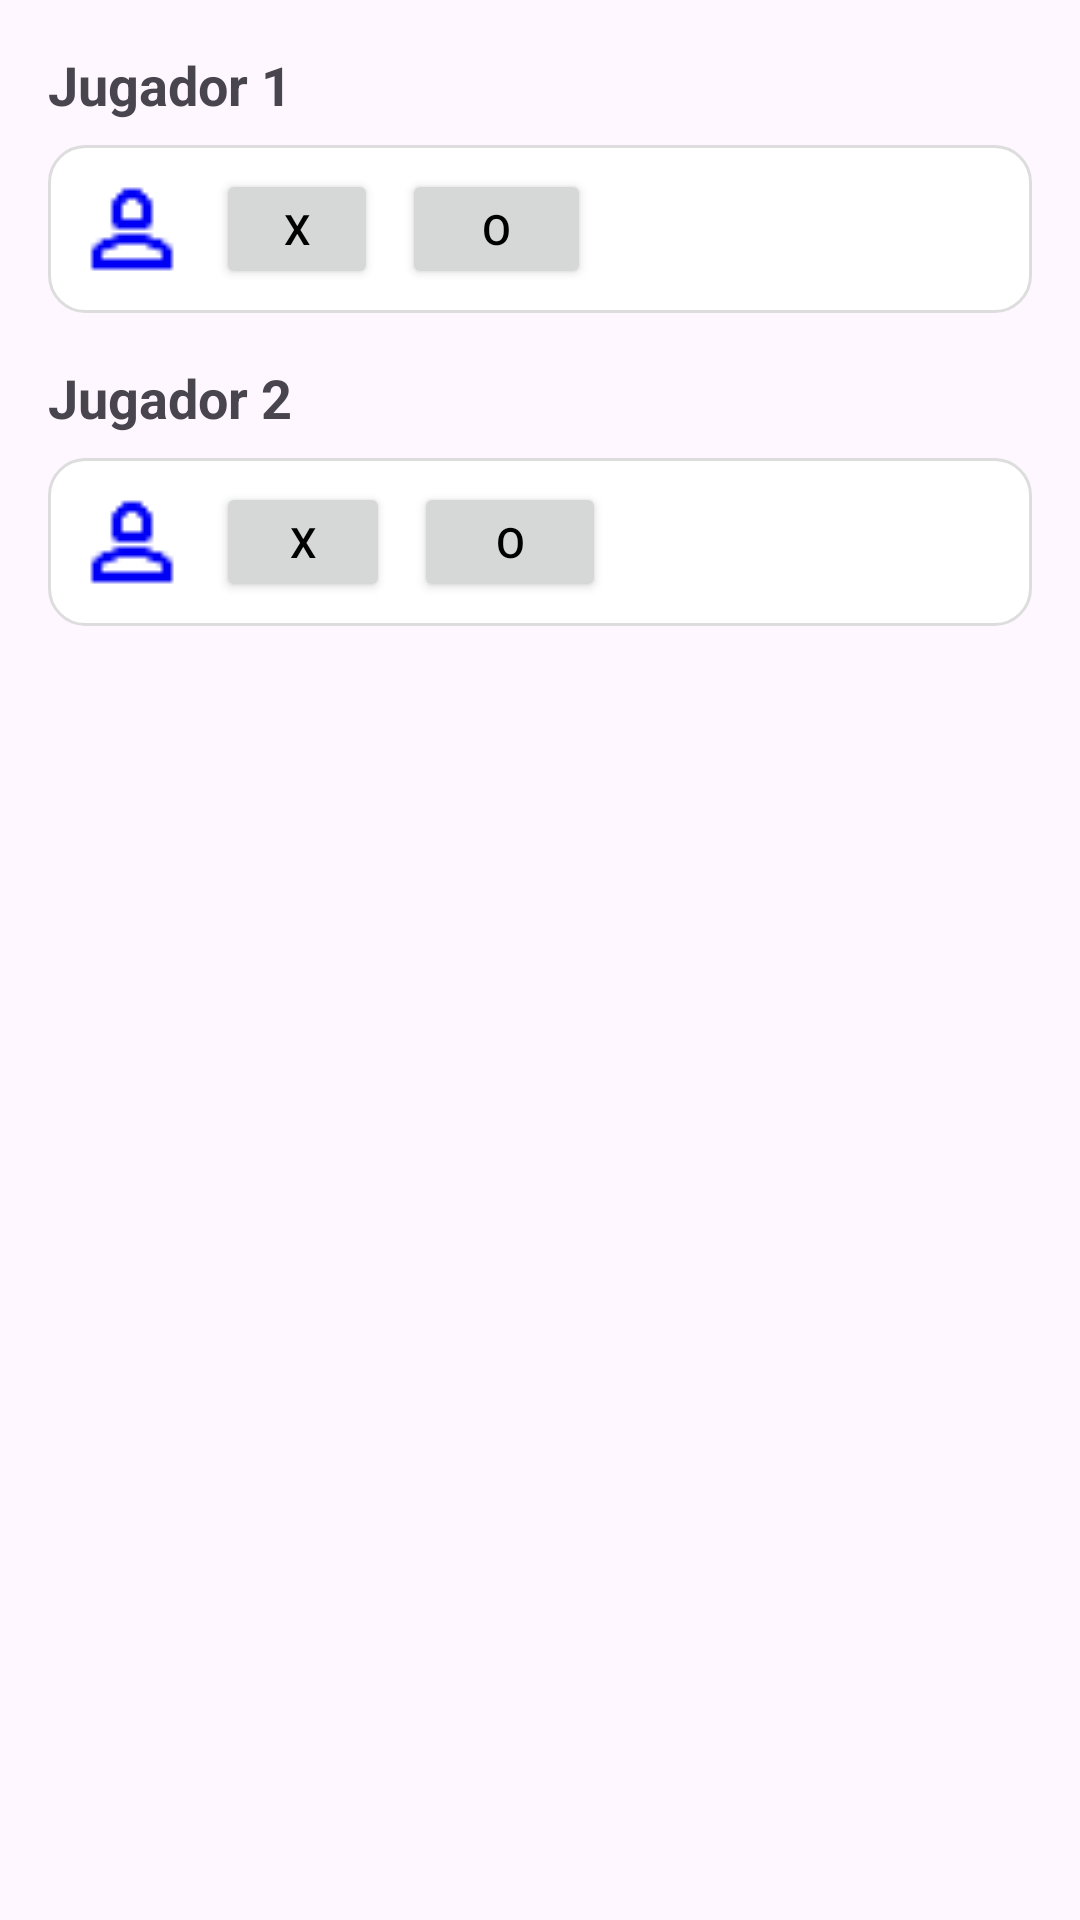

Icons on this 1080*1920 Android screen, each with the point to tap as [x,y]:
persona: [132,229], [132,542]
